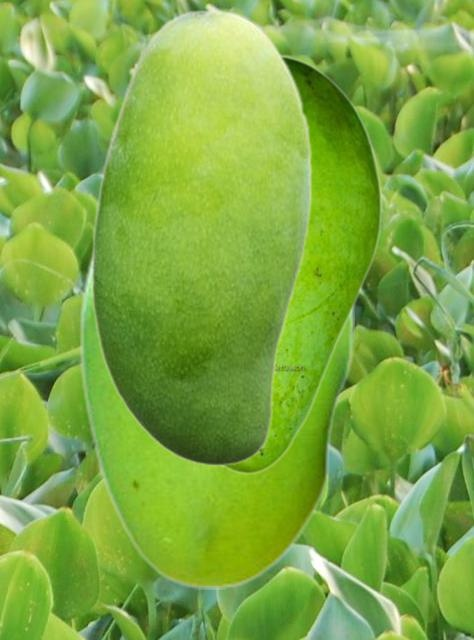green_mango: (90, 8, 312, 466), (78, 243, 353, 588), (222, 54, 382, 474)
